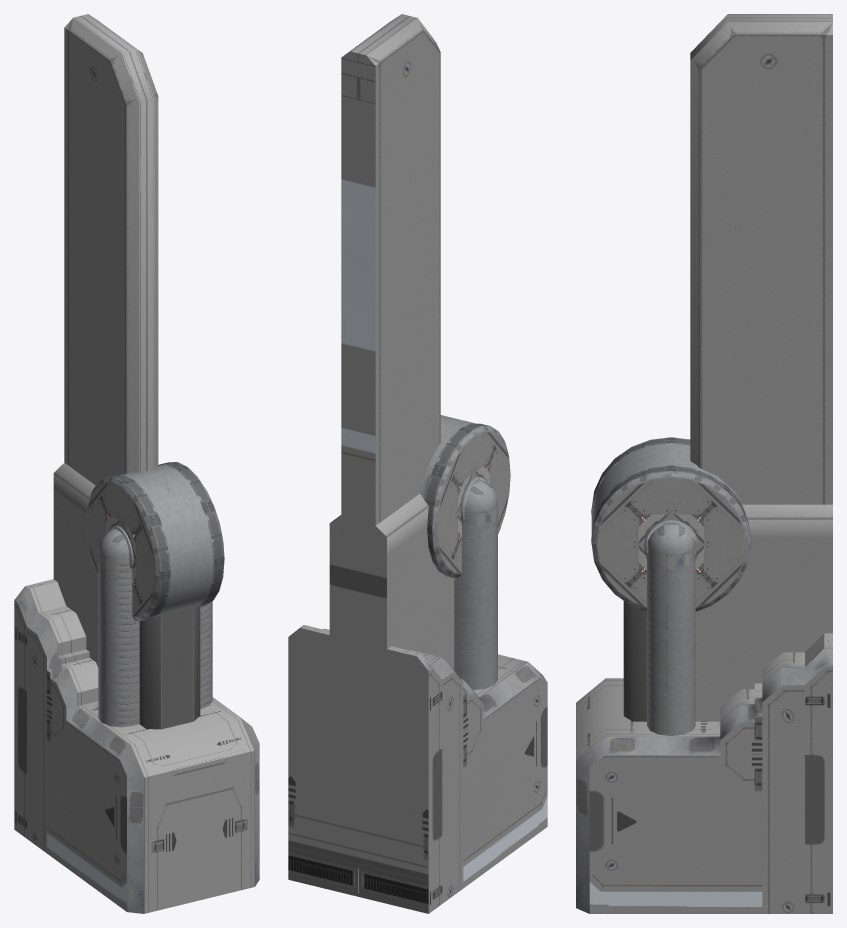
File: SM_SPillarS05.fbx
The picture shows the model from 3 angles, left to right: view 1: azimuth 30°, elevation 25°; view 2: azimuth 150°, elevation 25°; view 3: azimuth 270°, elevation 25°; orthographic projection. The views are drawn at different scales.
Visible parts, largest first — view 1: SM_SPillarS05_LOD0; view 2: SM_SPillarS05_LOD0; view 3: SM_SPillarS05_LOD0.
Boxes of the visible parts, x1,y1,x2,y2 form: SM_SPillarS05_LOD0: [14, 14, 259, 913]; SM_SPillarS05_LOD0: [288, 14, 547, 913]; SM_SPillarS05_LOD0: [576, 14, 832, 913].
Bounding box in the file's own units: 61.24 × 95 × 351.
Materials: 3 (3 with a texture image).
